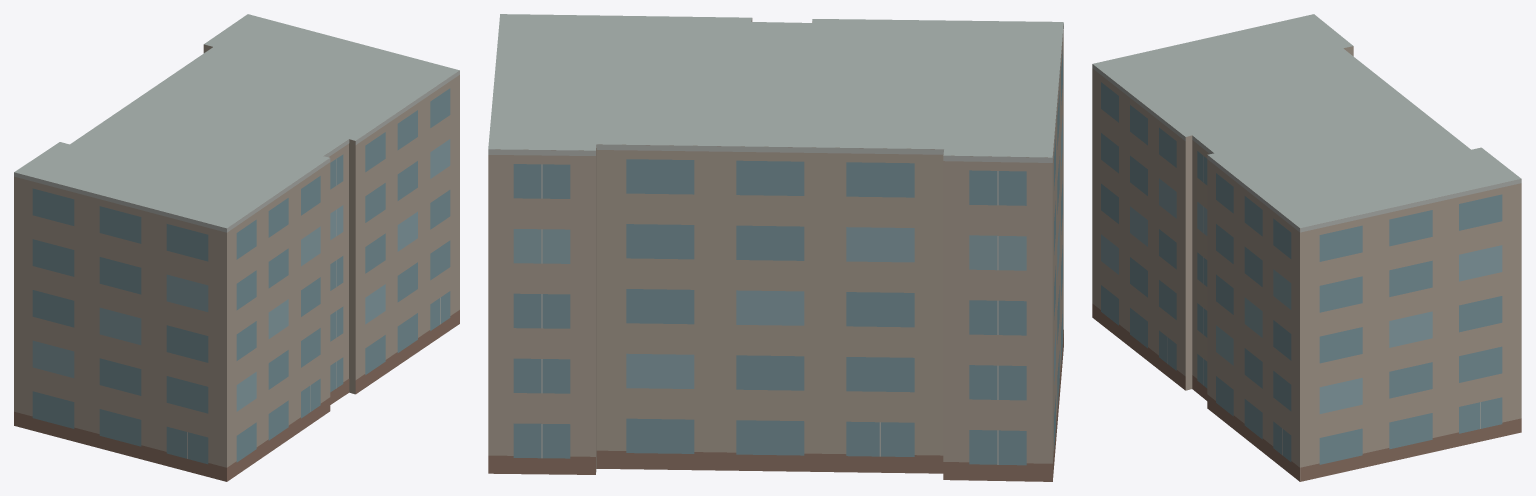
Rendered from survey-upis-32885996.glb.
3 renders of one model, left to right at view 1: azimuth 30°, elevation 25°; view 2: azimuth 150°, elevation 25°; view 3: azimuth 270°, elevation 25°, orthographic. The views are drawn at different scales.
Visible parts, largest first — view 1: survey-upis-32885996.tmp; view 2: survey-upis-32885996.tmp; view 3: survey-upis-32885996.tmp.
Boxes of the visible parts, left/top/right/bottom form: survey-upis-32885996.tmp: left=14, top=14, right=459, bottom=481; survey-upis-32885996.tmp: left=488, top=14, right=1063, bottom=481; survey-upis-32885996.tmp: left=1092, top=14, right=1521, bottom=481.
Bounding box in the file's own units: 25.91 × 14.3 × 21.94.
